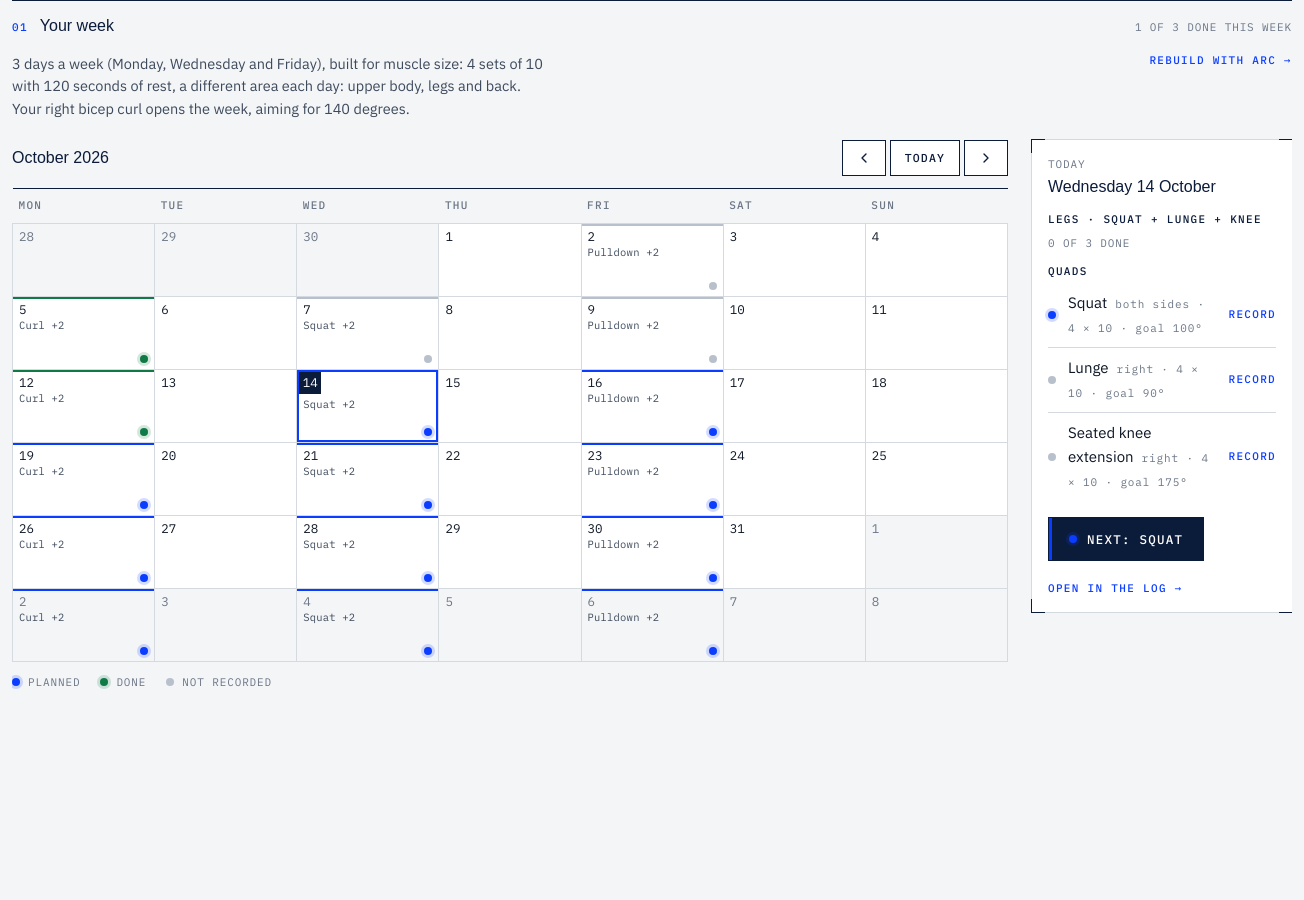
it: PlanCalendar › shows a past day's session, and a rest day as rest
Click the button with aria-label "Monday 12 October": [84, 406] box top-left (13, 370), bottom-right (154, 442)
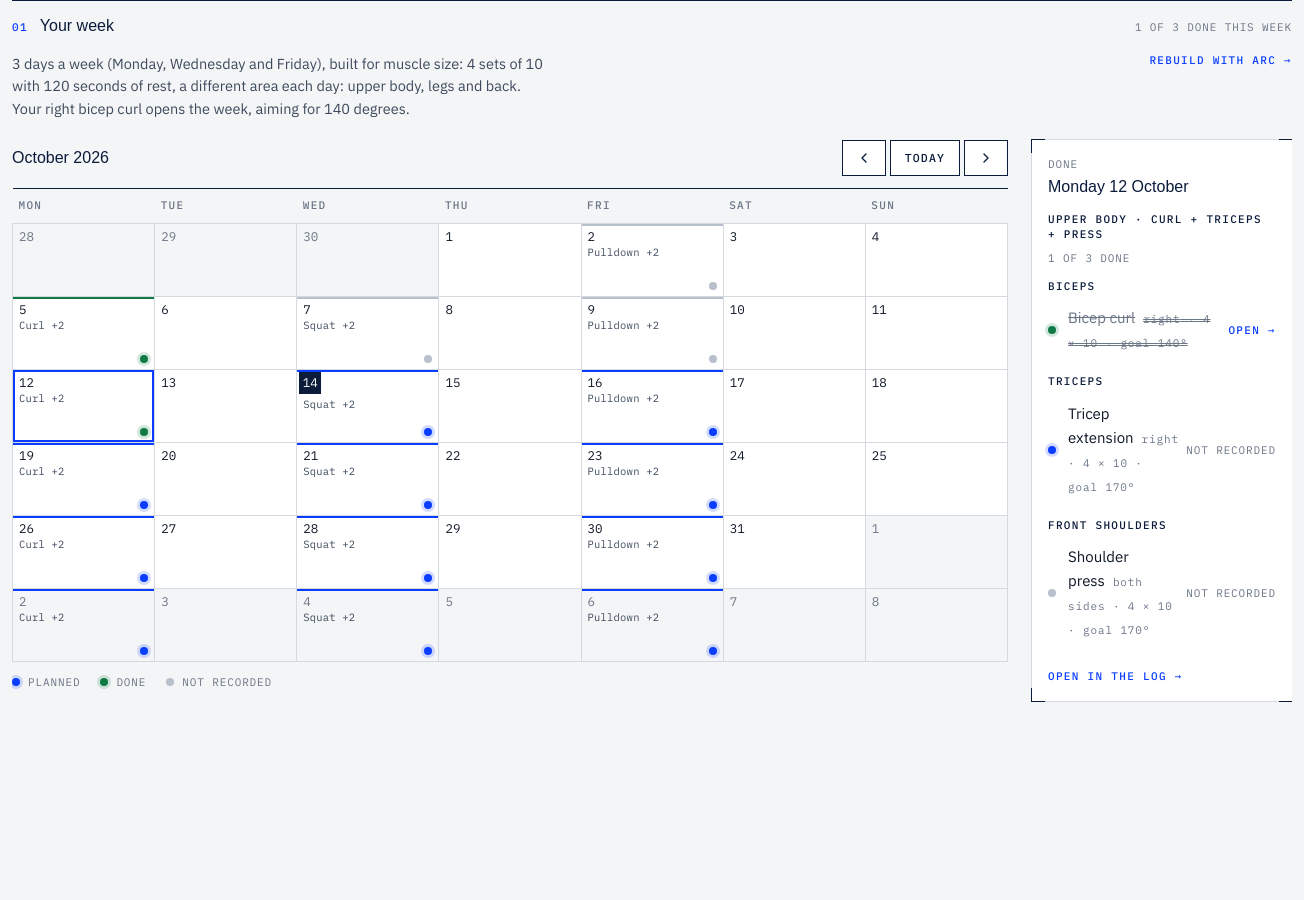
Check: the text "Not recorded" is shown 2 times, box top-left (1186, 442), bottom-right (1276, 458); top-left (1186, 585), bottom-right (1276, 601)
Check: the link "Next:" is gone
Click the button named "Tuesday 13 October": [226, 406] box top-left (155, 370), bottom-right (296, 442)
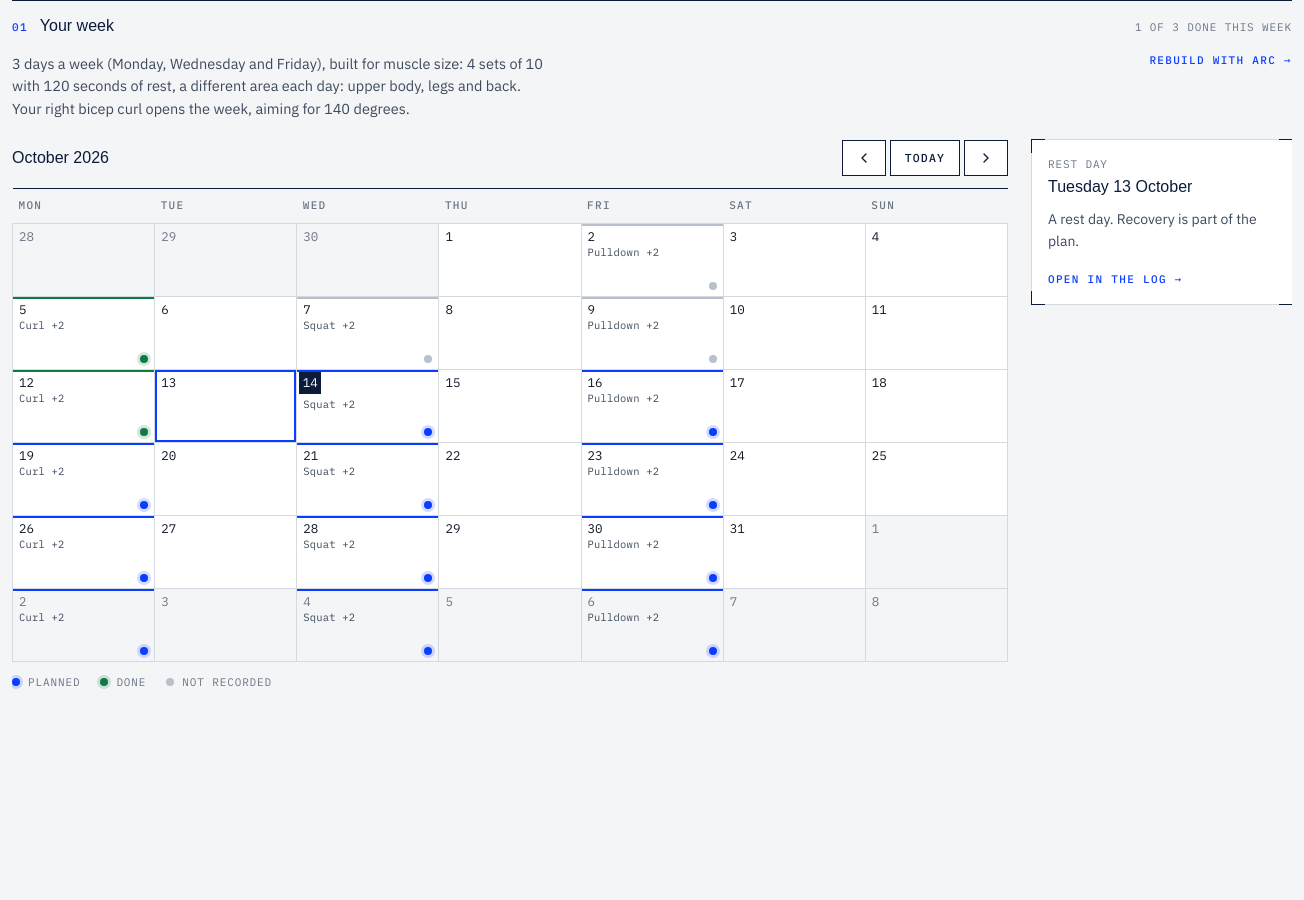
Check: the text "A rest day. Recovery is part of the plan." is shown, box top-left (1048, 208), bottom-right (1276, 252)
